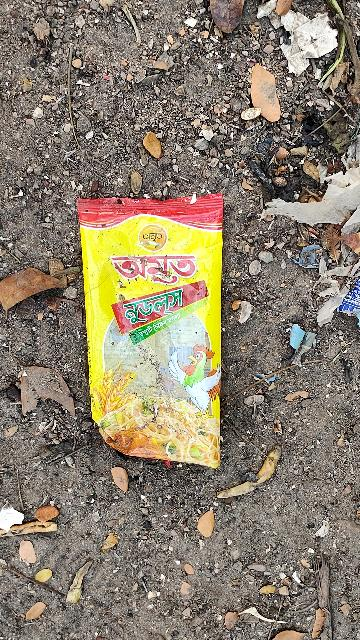packet: (56, 176, 223, 473)
